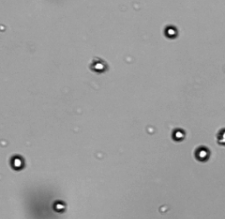Living Cell: (89, 58, 108, 73), (194, 146, 211, 162), (9, 155, 25, 171), (164, 24, 178, 39), (171, 128, 185, 142), (53, 200, 67, 213)
